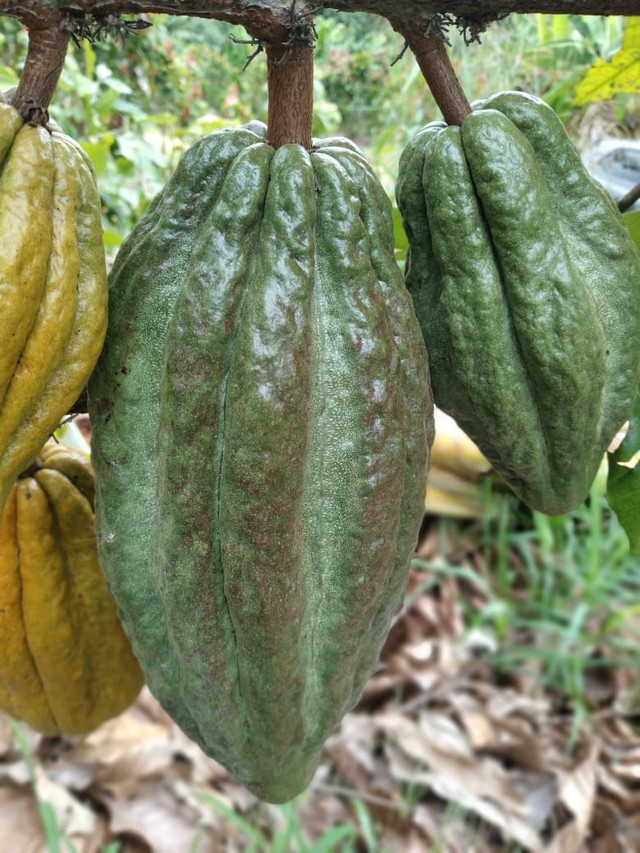Health: (79, 88, 448, 821), (391, 67, 640, 527)
